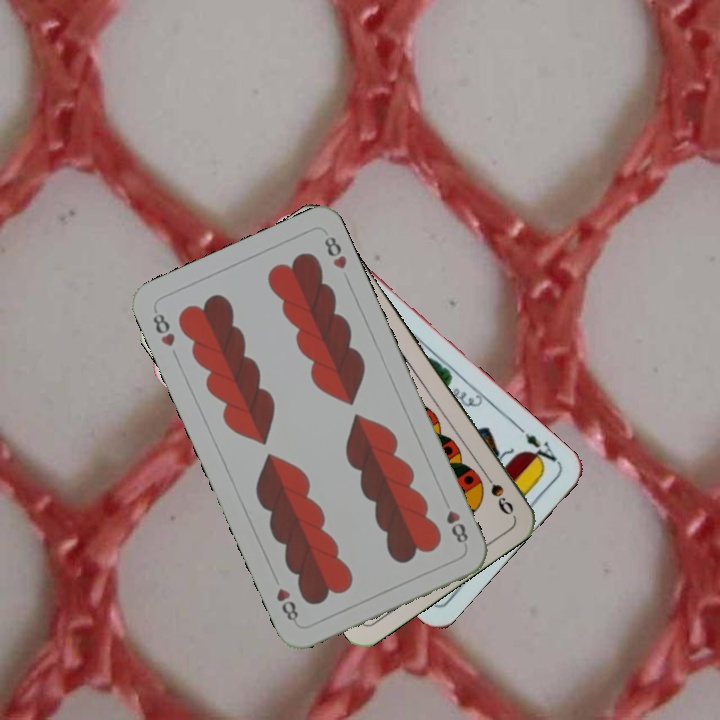EA: (520, 429, 562, 470)
H8: (148, 305, 178, 350), (442, 506, 471, 549)
S9: (477, 465, 516, 518)
